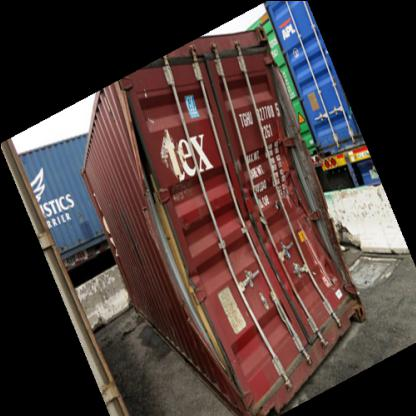Damage: (115, 137, 188, 281), (160, 238, 214, 360)
